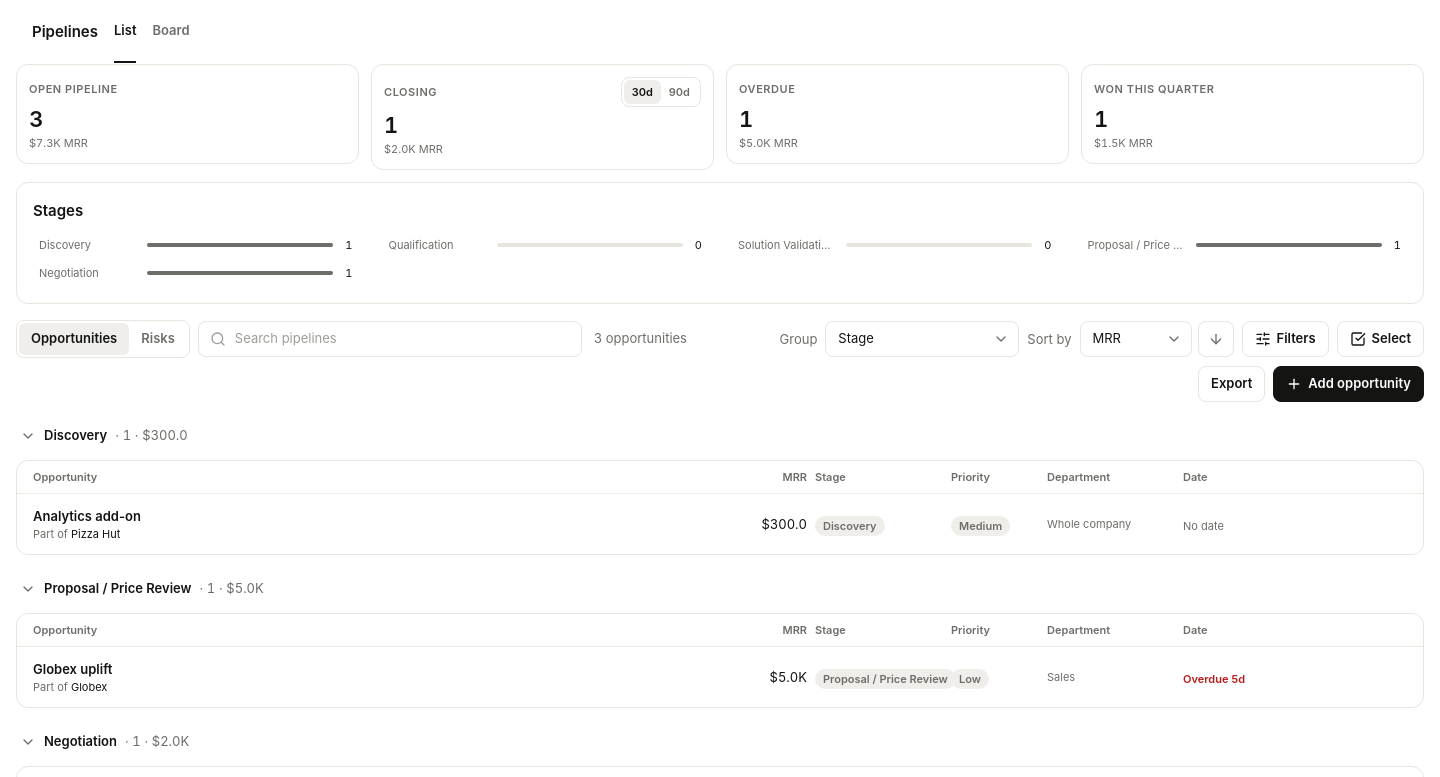
Test: Pipelines list › adds an opportunity on an organisation found by searching the server
Click the button "Add opportunity" at (1349, 384), box left=1273, top=366, right=1424, bottom=402
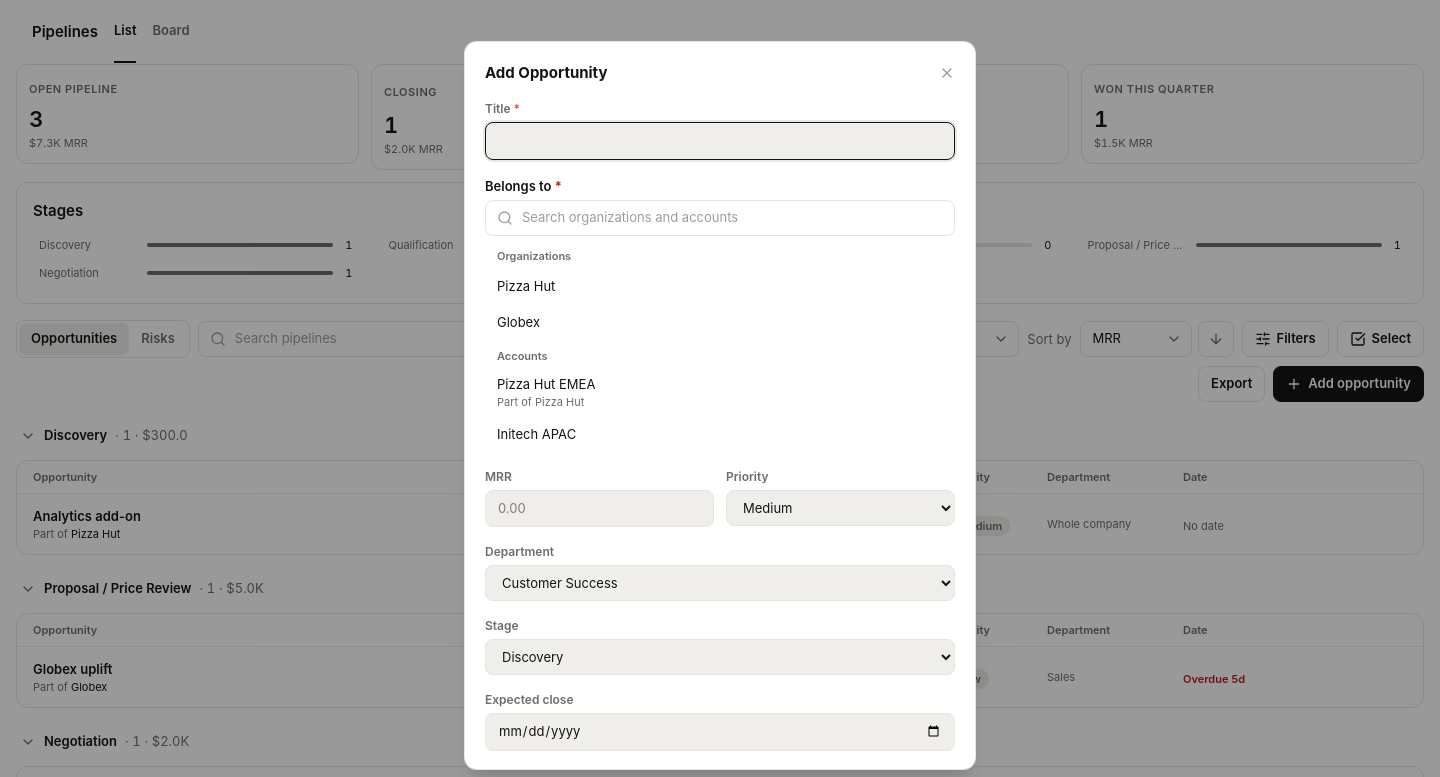
Expected: the heading "Add Opportunity" is shown, left=485, top=62, right=608, bottom=84
Type "Seats" into the field labelled "Title *" at (720, 141), box left=485, top=122, right=955, bottom=160
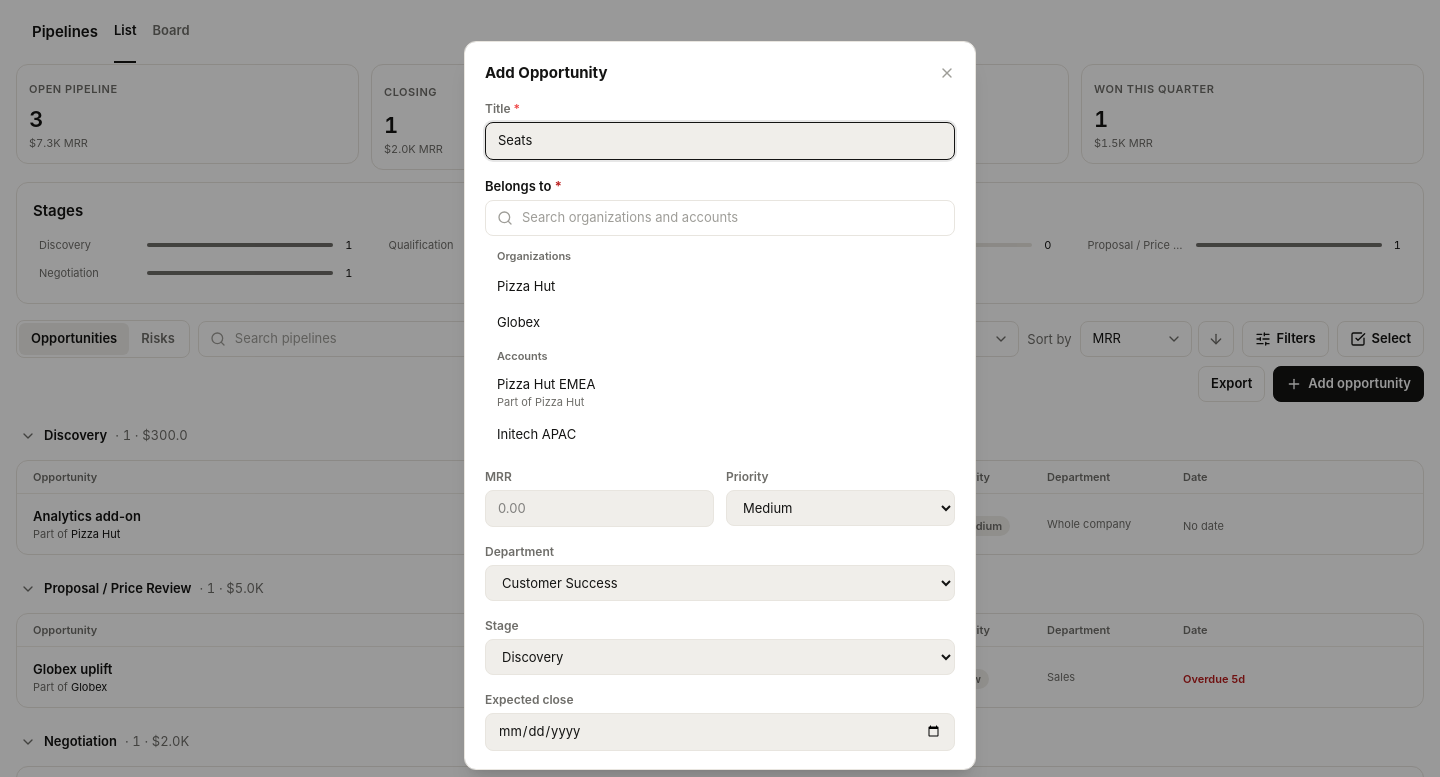
Type "glob" into the search field labelled "Belongs to" at (720, 218), box left=485, top=200, right=955, bottom=236
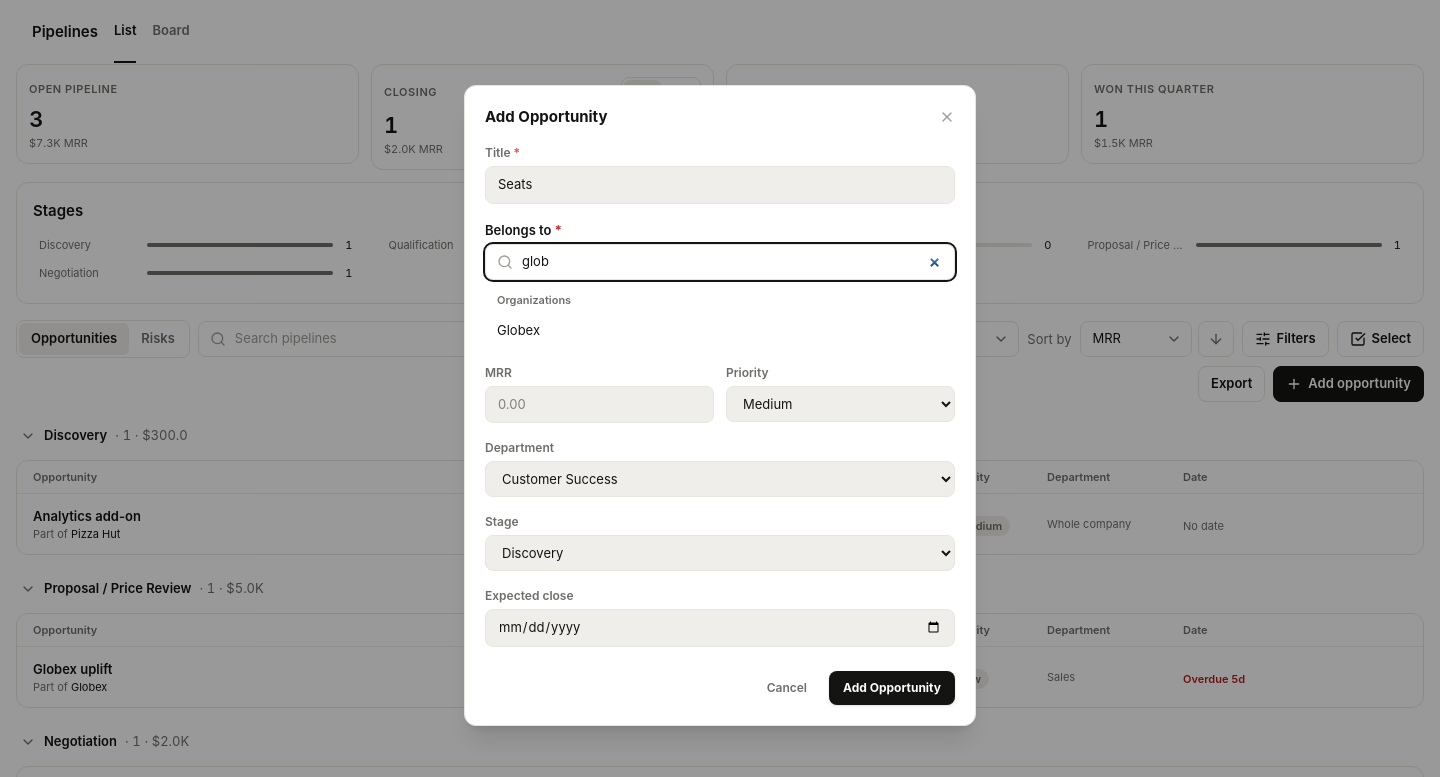
Expected: the buttons read "Globex", in this order
Click the button "Globex" at (518, 330), box left=485, top=312, right=955, bottom=348
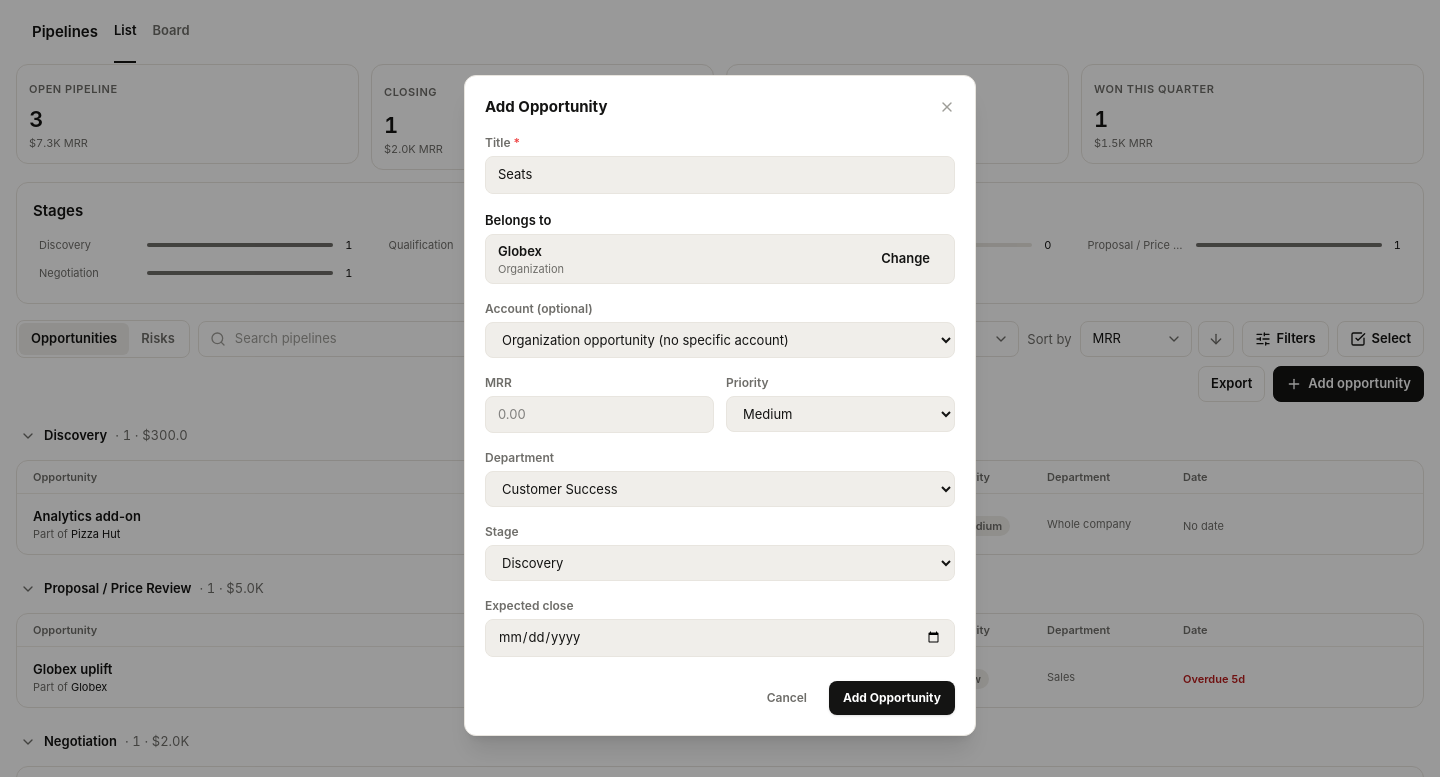
Click the button "Add Opportunity" at (892, 698), box left=829, top=680, right=955, bottom=714
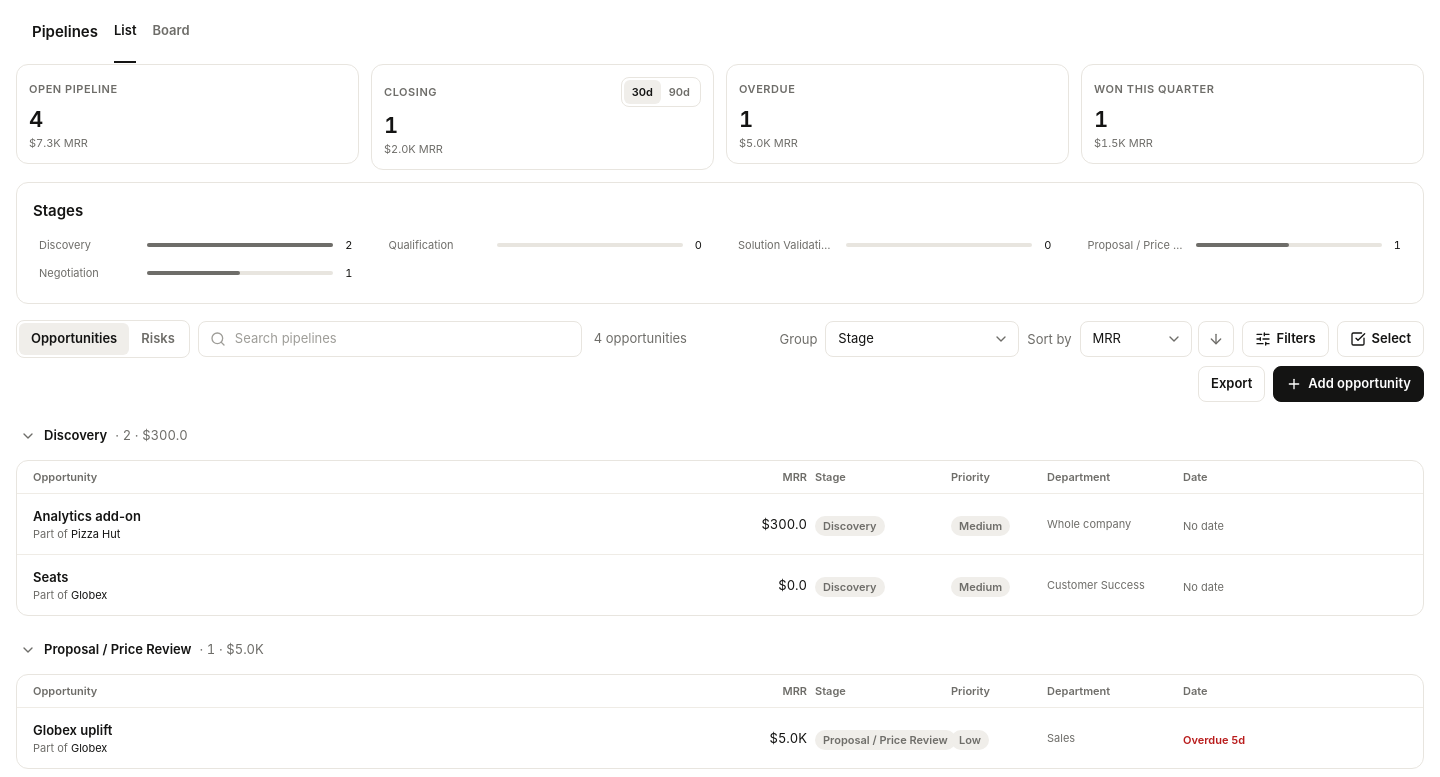
Expected: the button "Seats" is shown, left=33, top=567, right=719, bottom=587
